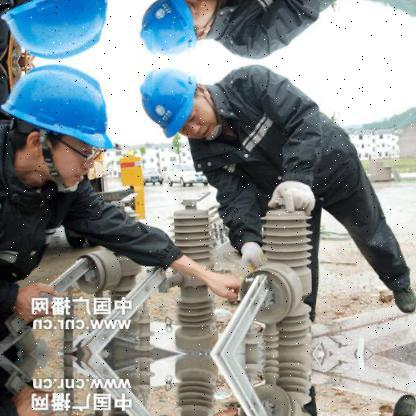helmet: (10, 63, 123, 188), (10, 0, 124, 58), (131, 64, 213, 144), (130, 0, 213, 57)
